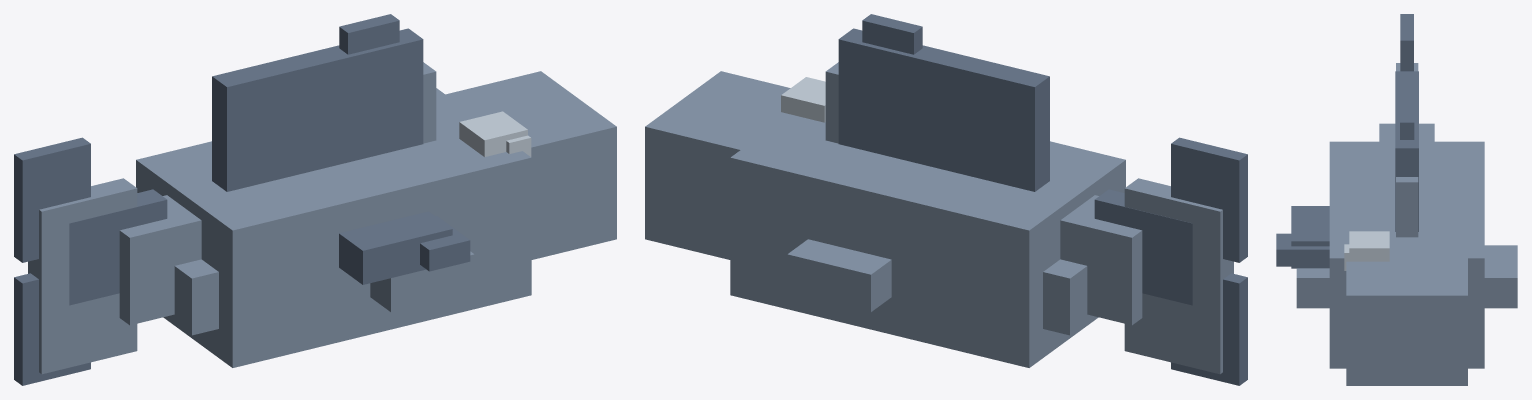
Rendered from fish_veil_goby.glb.
3 renders of one model, left to right at view 1: azimuth 30°, elevation 25°; view 2: azimuth 150°, elevation 25°; view 3: azimuth 270°, elevation 25°, orthographic. The views are drawn at different scales.
Visible parts, largest first — view 1: FishArt_body, FishArt_dorsal, FishArt_tail, FishArt_pectoral, FishArt_eye; view 2: FishArt_body, FishArt_dorsal, FishArt_tail, FishArt_eye; view 3: FishArt_body, FishArt_pectoral, FishArt_dorsal, FishArt_eye, FishArt_tail.
Part boxes in pixels (x1=…): FishArt_body: x1=28, y1=62, x2=616, y2=374; FishArt_dorsal: x1=212, y1=14, x2=423, y2=191; FishArt_tail: x1=14, y1=137, x2=167, y2=385; FishArt_pectoral: x1=339, y1=211, x2=470, y2=284; FishArt_eye: x1=459, y1=111, x2=531, y2=156; FishArt_body: x1=645, y1=62, x2=1233, y2=374; FishArt_dorsal: x1=838, y1=14, x2=1049, y2=191; FishArt_tail: x1=1094, y1=137, x2=1247, y2=385; FishArt_eye: x1=781, y1=77, x2=825, y2=122; FishArt_body: x1=1296, y1=63, x2=1517, y2=385; FishArt_pectoral: x1=1276, y1=206, x2=1329, y2=268; FishArt_dorsal: x1=1395, y1=71, x2=1418, y2=231; FishArt_eye: x1=1344, y1=231, x2=1389, y2=270; FishArt_tail: x1=1400, y1=14, x2=1413, y2=71.
Size of the model in its own units: 0.3091 by 0.1442 by 0.1439.
